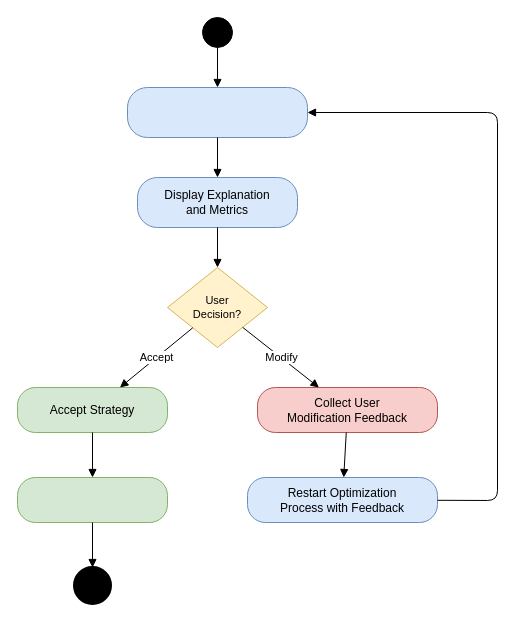
Some shapes in this 523 by 622 pixel diagram are drawn without their labels. The shapes that lost their labels are listed below. From the top down, each one's centre as x and y in pixels, then its label:
(x=217, y=112): Present Strategy Results to User
(x=92, y=499): Download Final .ex5 File
